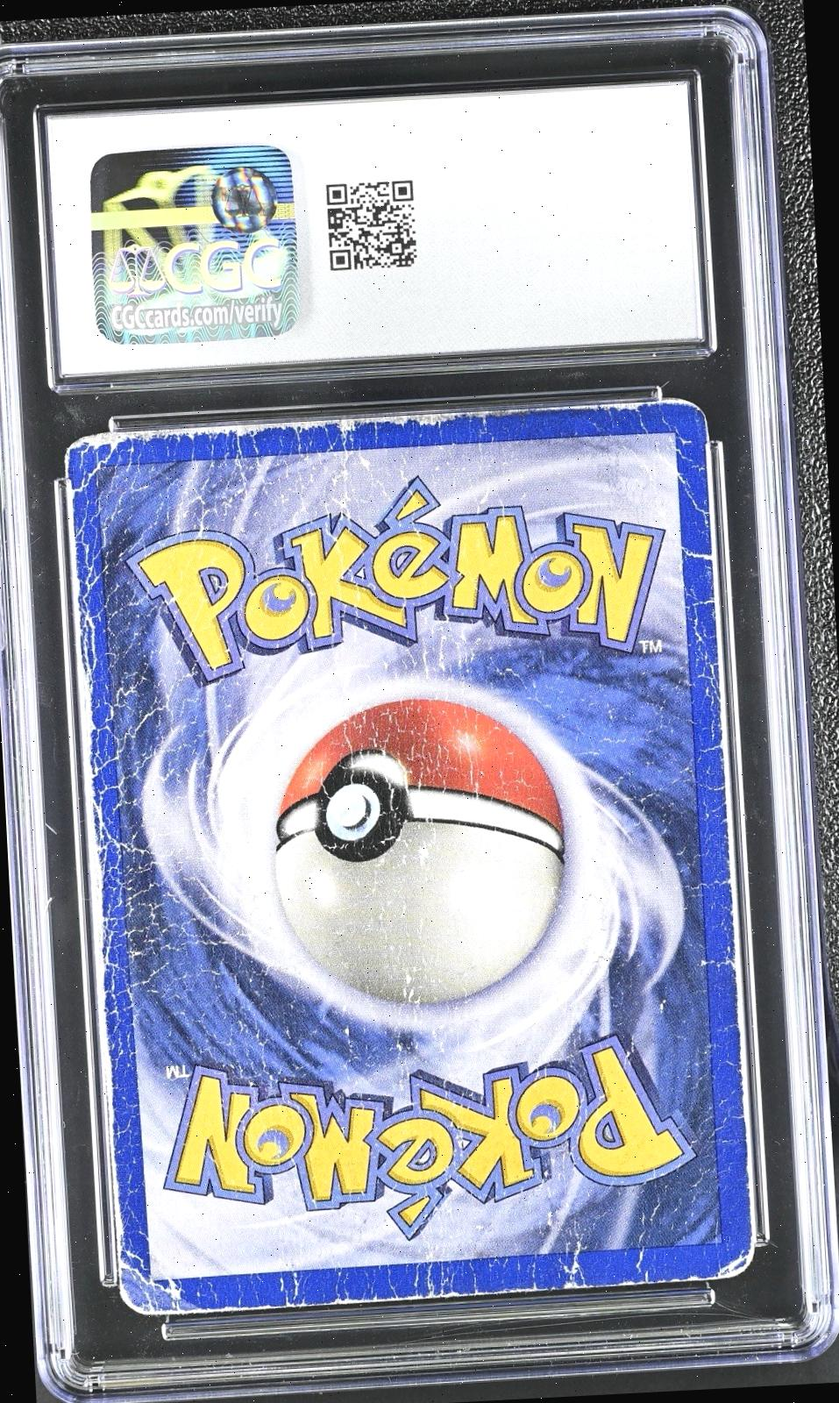card-2UtV: (63, 395, 756, 1316)
